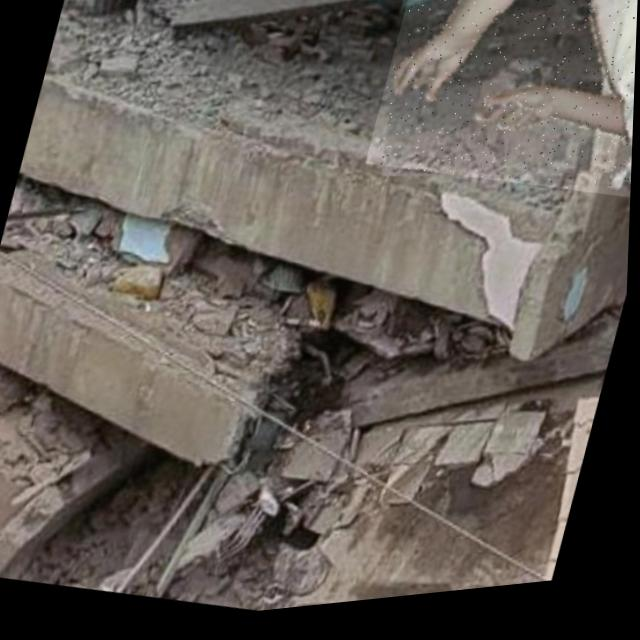Person in Rubble: (364, 0, 640, 235)
